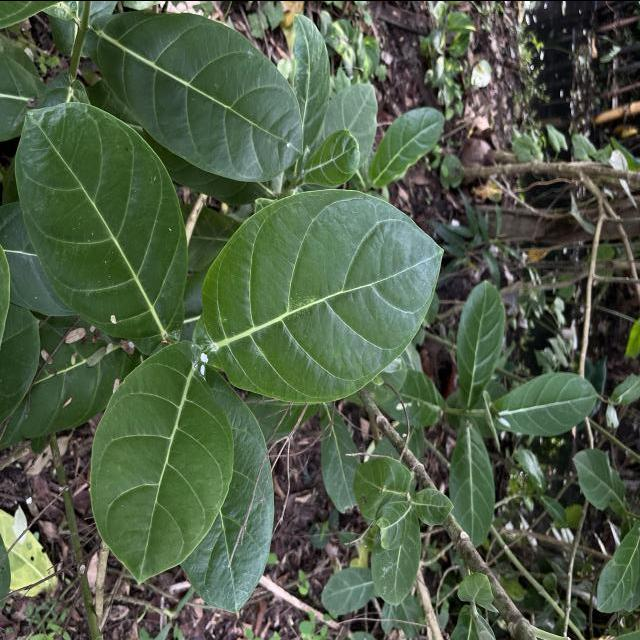Calotropis gigantea: (199, 186, 446, 405), (14, 98, 190, 354), (87, 337, 236, 587), (96, 9, 304, 183), (182, 357, 276, 614), (494, 369, 600, 438), (454, 276, 506, 406), (368, 106, 447, 186), (449, 418, 497, 548)
